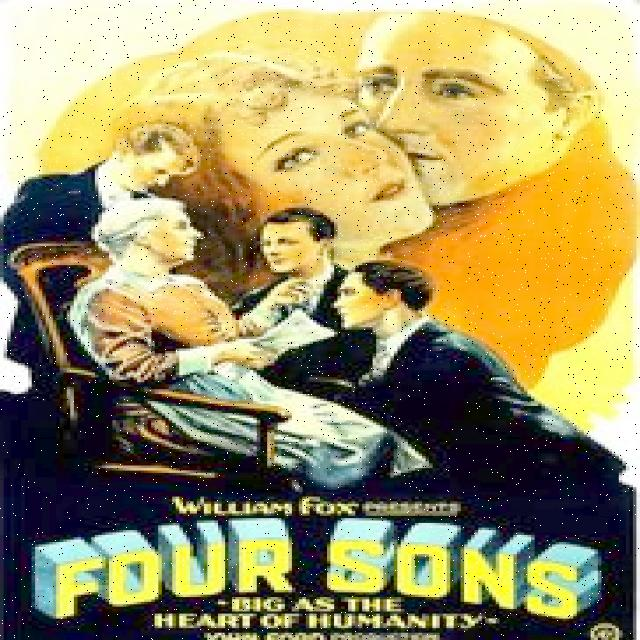movie-judul: (16, 490, 640, 640)
picture: (0, 2, 633, 492)
